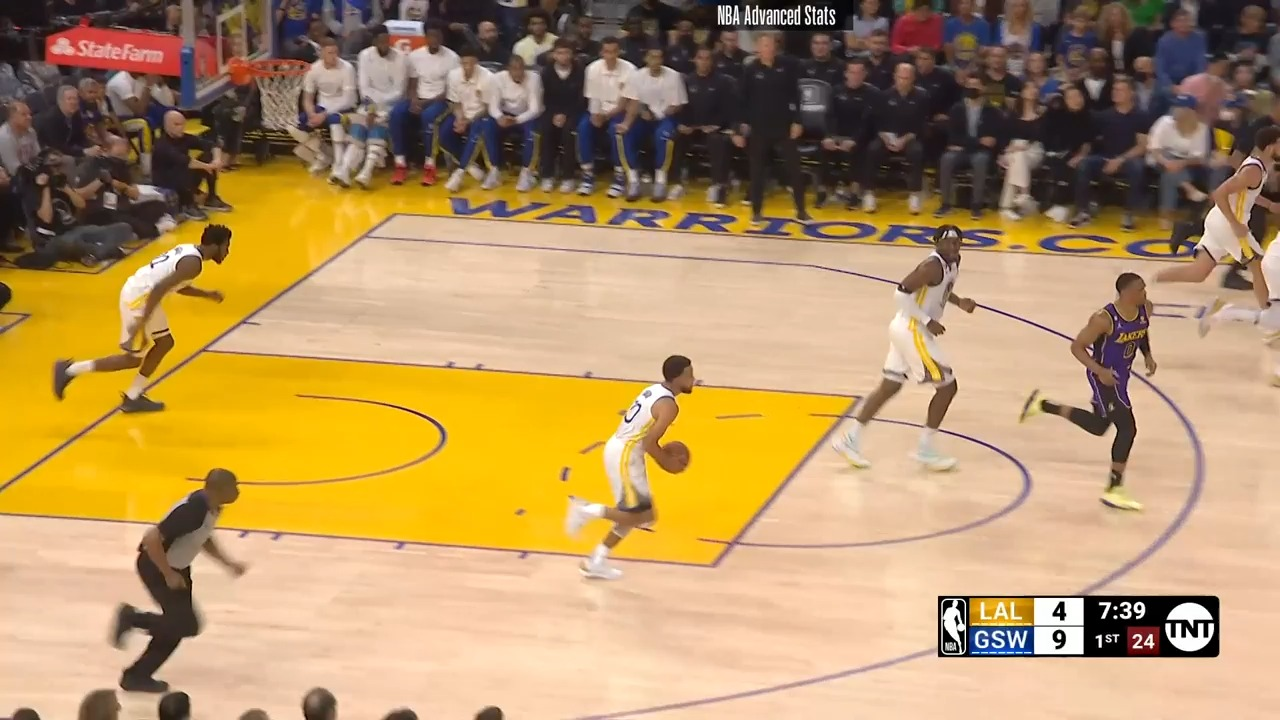net: (224, 39, 317, 127)
player: (830, 221, 980, 479), (50, 223, 237, 424), (560, 354, 708, 594), (1022, 272, 1168, 515), (1193, 132, 1280, 310), (1200, 236, 1280, 399)
referee: (105, 466, 251, 696)
